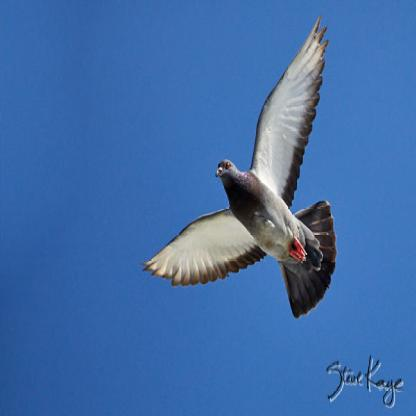Flying Rat: (149, 18, 341, 357)
